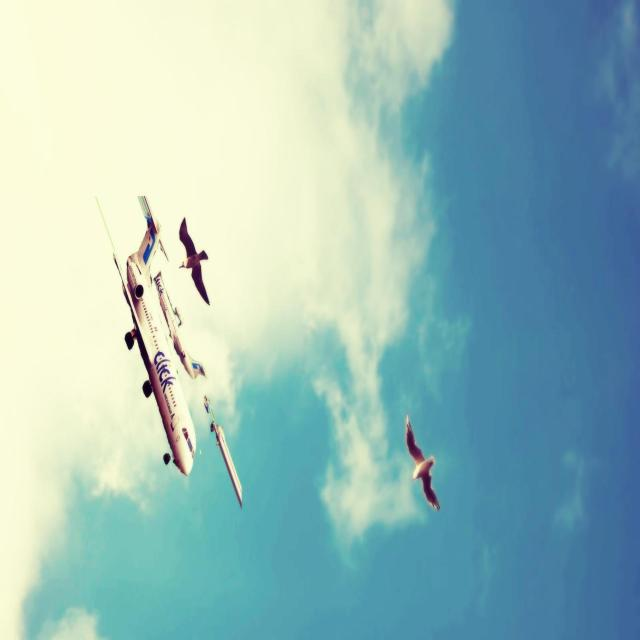airplane: (95, 193, 197, 475)
